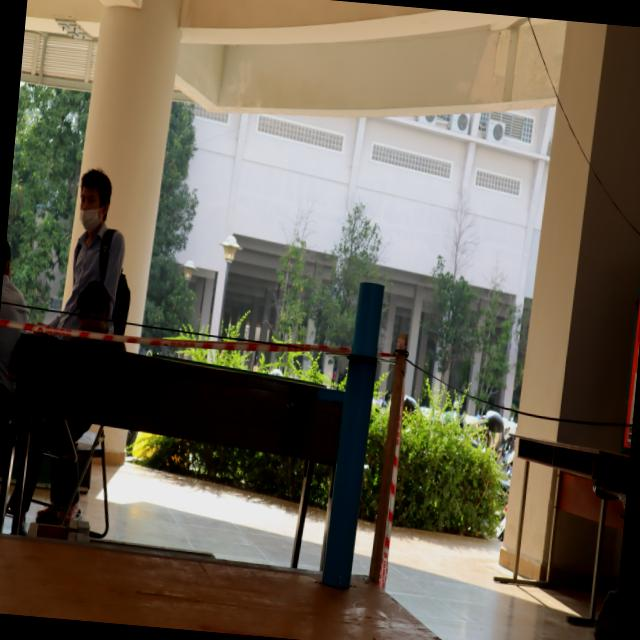pole: (328, 276, 399, 428)
